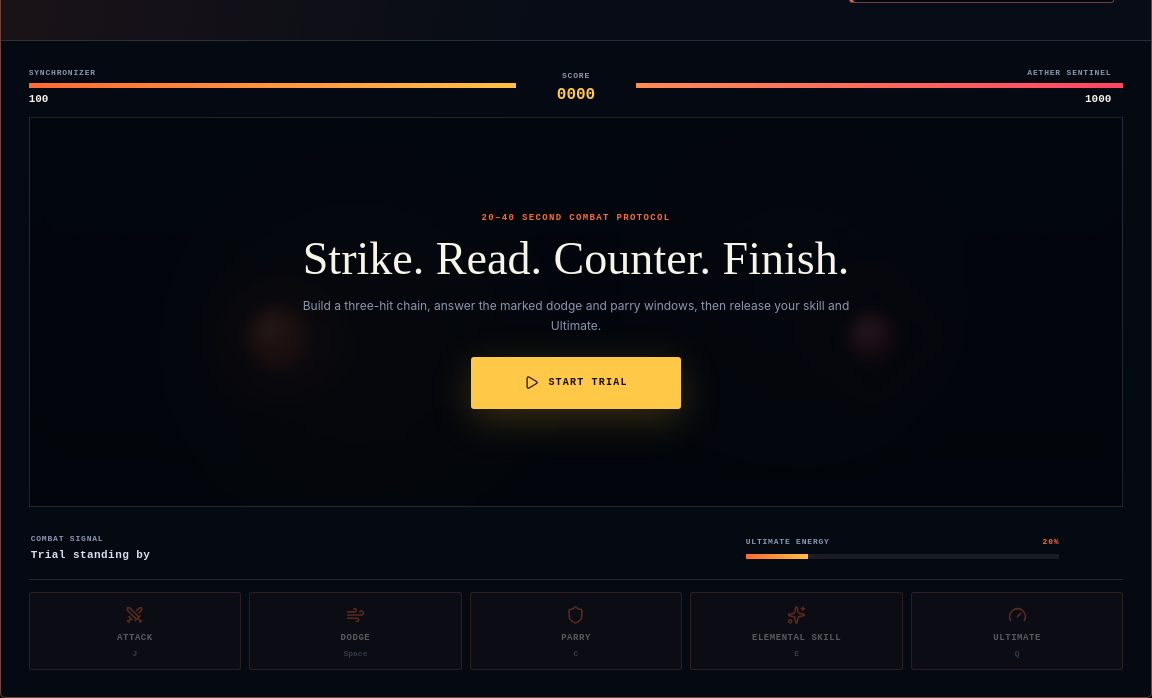
Test: playable website combat challenge › prompts for restart when resonance changes during an attempt
(page scrolled)
Click the button "Start trial" at (576, 383), box [471,357,681,409]
(page scrolled)
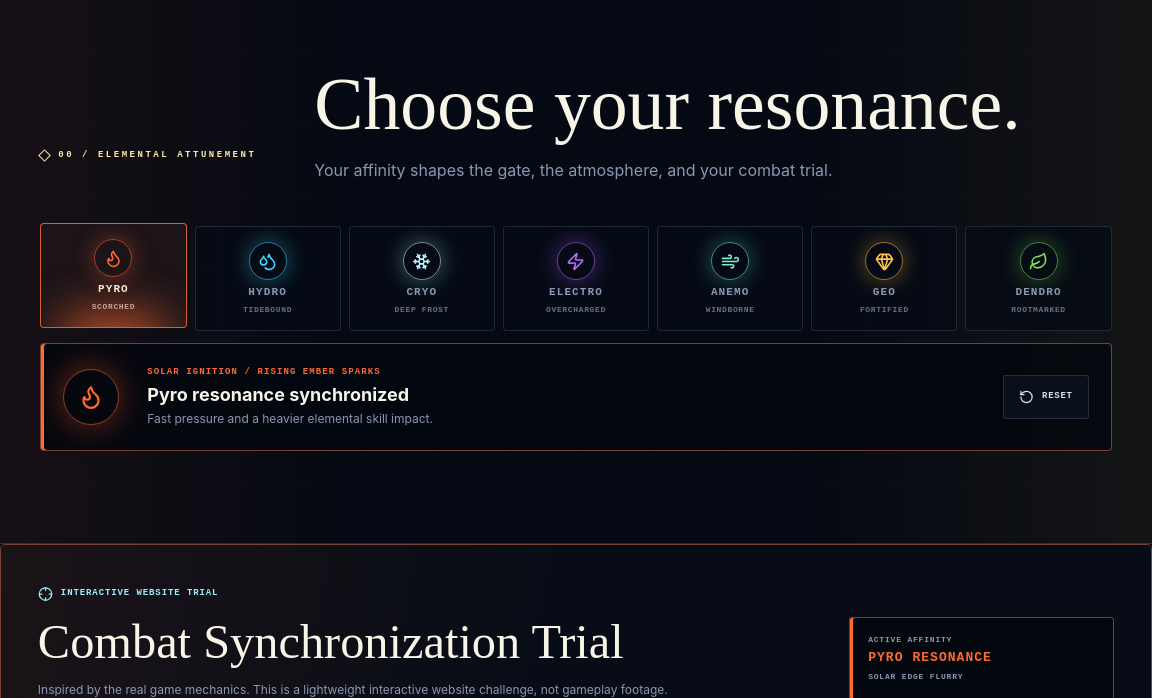
Click the radio button labelled "Hydro Tidebound" at (268, 278), box [194,226,341,331]
(page scrolled)
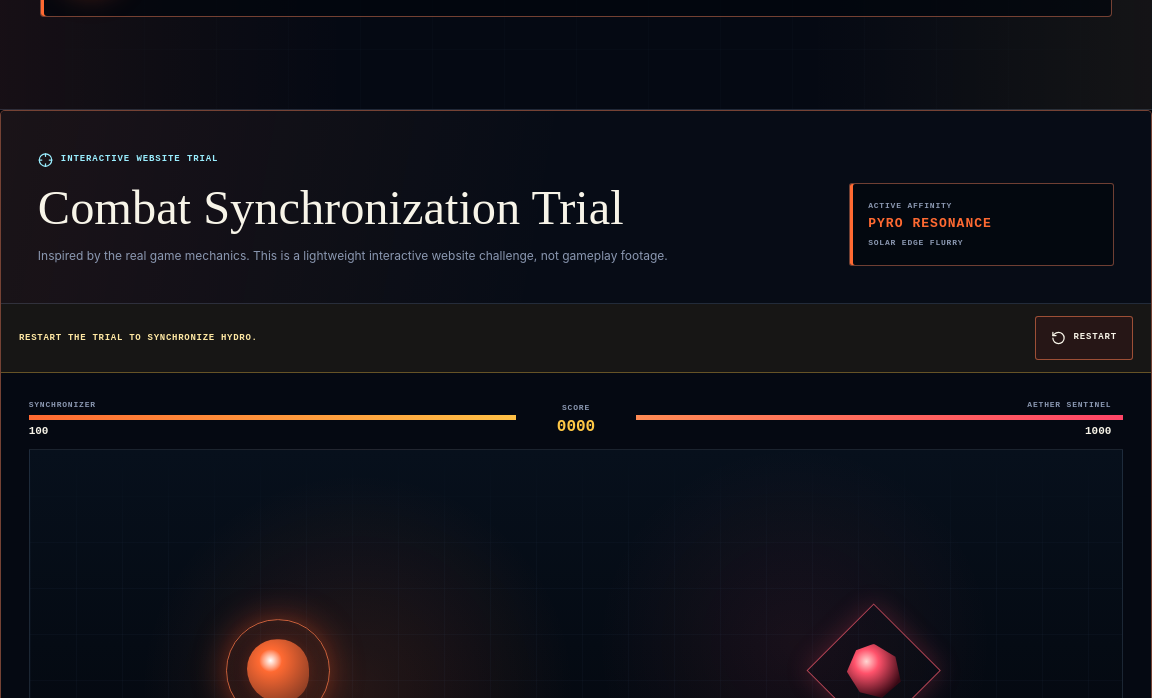
Now the text "Restart the trial to synchronize Hydro. Restart" is shown, box [1,304,1151,373]
